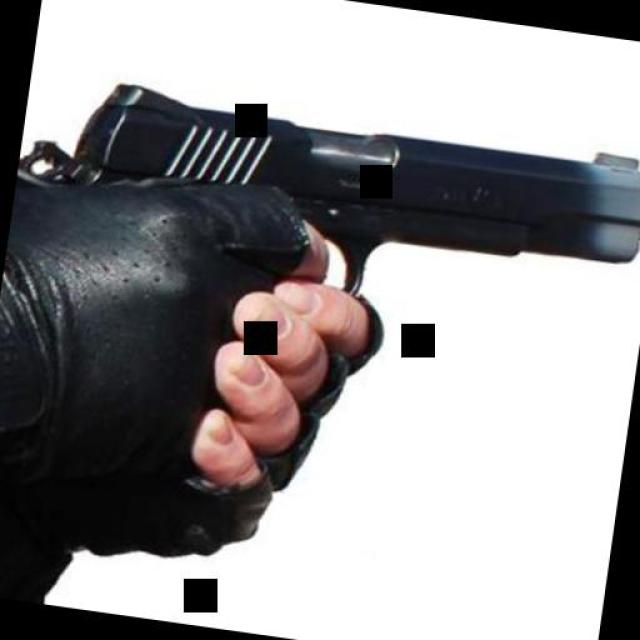gun: (54, 71, 640, 344)
